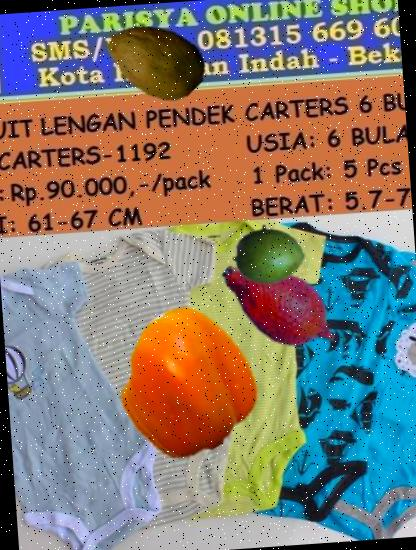Mango: (230, 215, 307, 292)
Papaya: (106, 7, 209, 111)
Pepper: (108, 307, 260, 459)
Salak: (210, 234, 350, 374)
